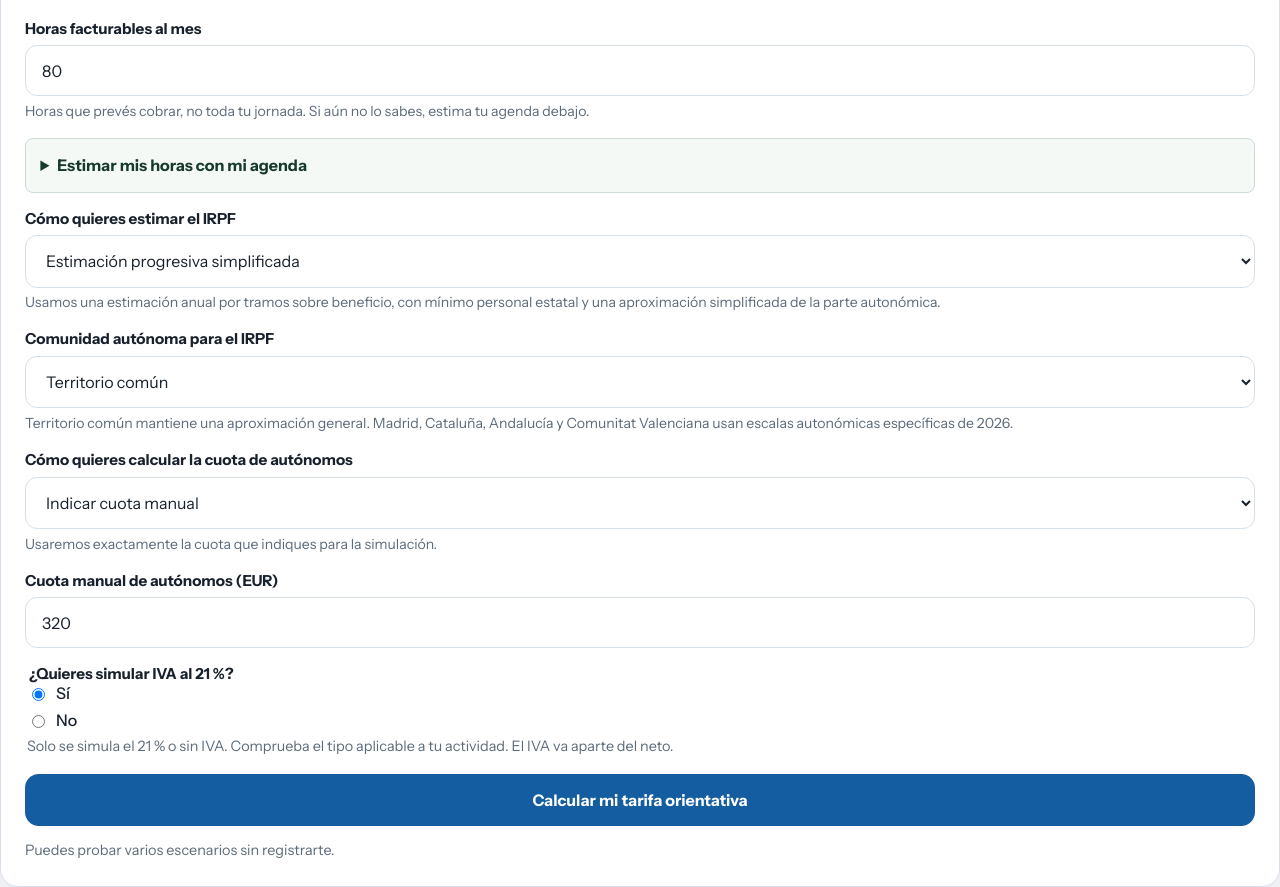
CalculatorForm › prefills imported costs without calculating until the target net is reviewed
(page scrolled)
expect the dropdown labelled "Cómo quieres calcular la cuota" shows "Indicar cuota manual": met, box [25,476,1255,529]
expect the number field labelled "Cuota manual de autónomos (EUR)" holds "320": met, box [25,597,1255,648]
Click the button "Calcular mi tarifa orientativa".
click(640, 800)  # box [25,774,1255,826]
(page scrolled)
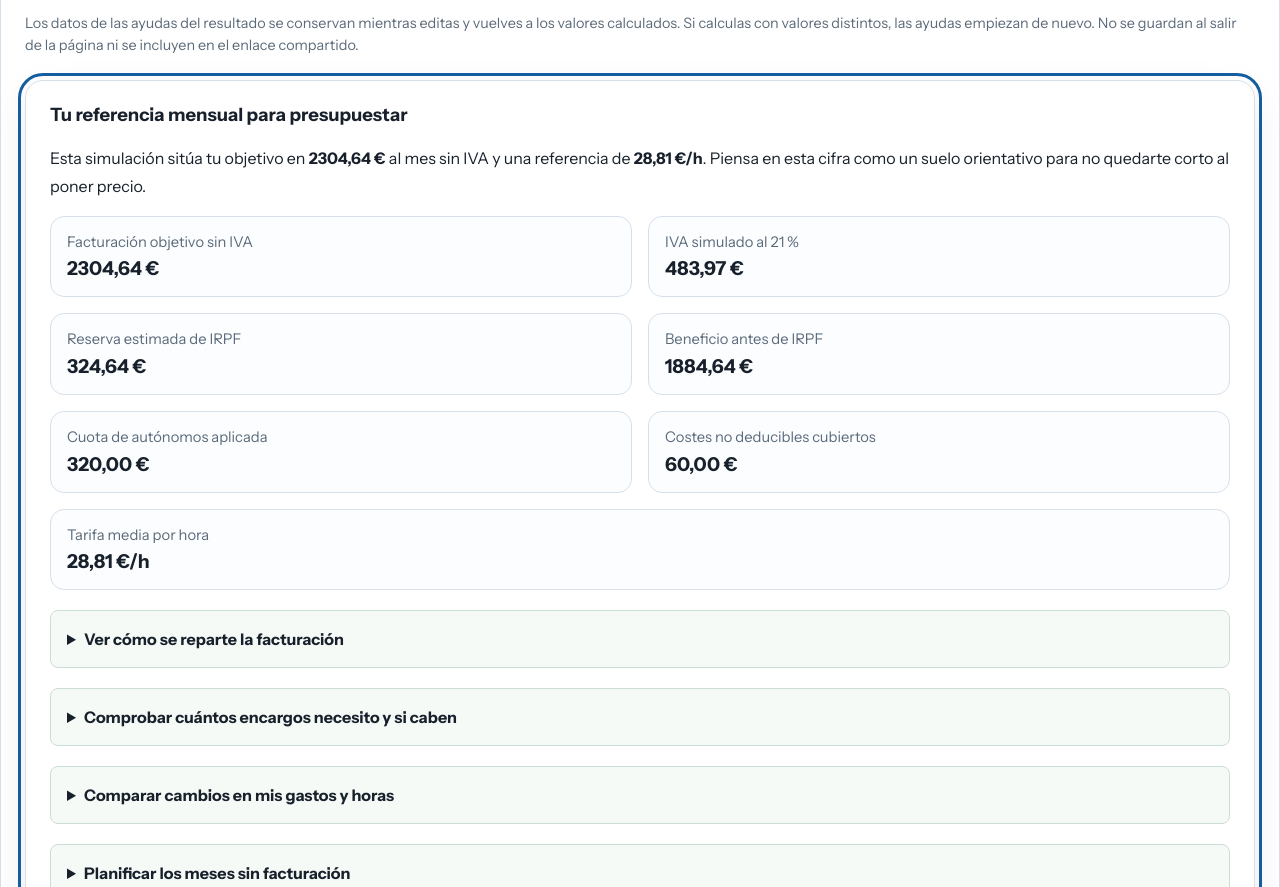
expect the text "Costes no deducibles cubiertos" is shown: met, box [665,428,876,446]
